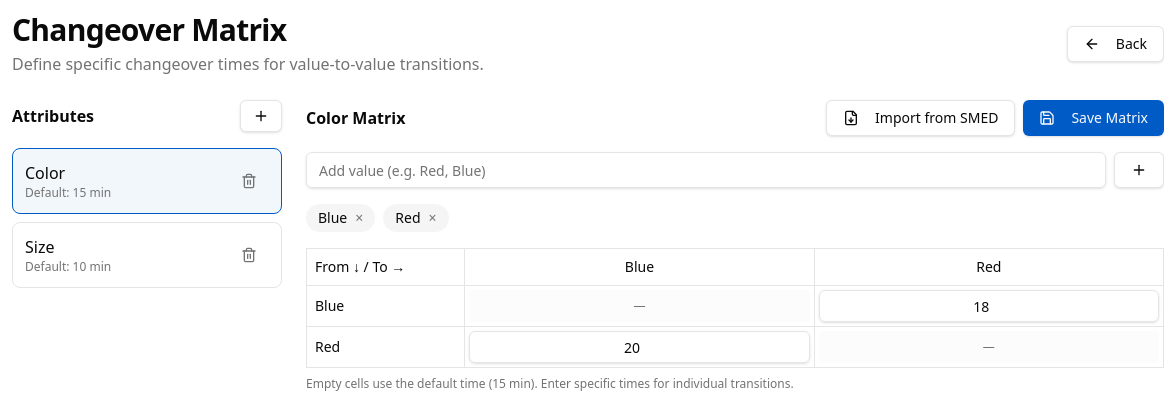
Test case: ChangeoverMatrixScreen › Attribute Selection › should switch matrix when different attribute is clicked
Expected: the text "Color" is shown, x1=25 y1=162 x2=65 y2=184
# Click on Size attribute
What coordinates should you click on to do the following:
click the text "Size"
I would click on:
 (40, 247)
Its box is x1=25 y1=236 x2=54 y2=258.
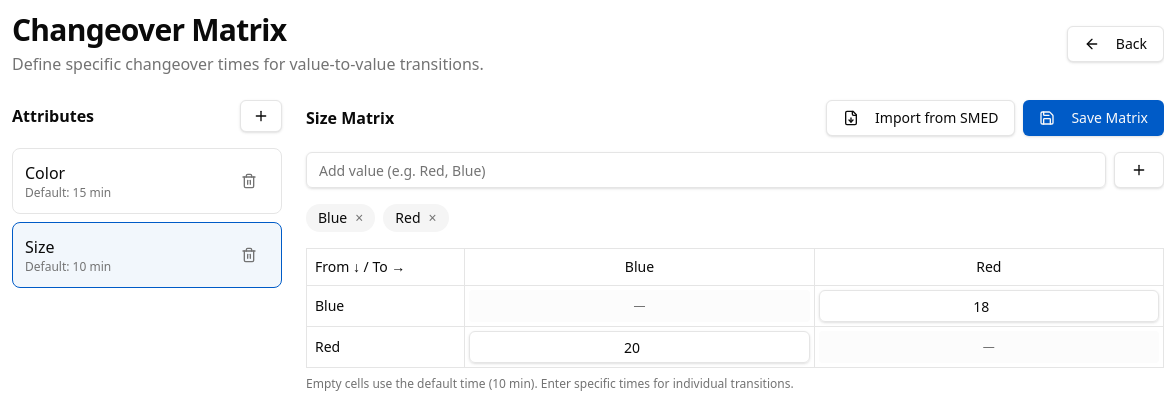
Expected: the heading "Size Matrix" is shown, x1=306 y1=106 x2=394 y2=130
